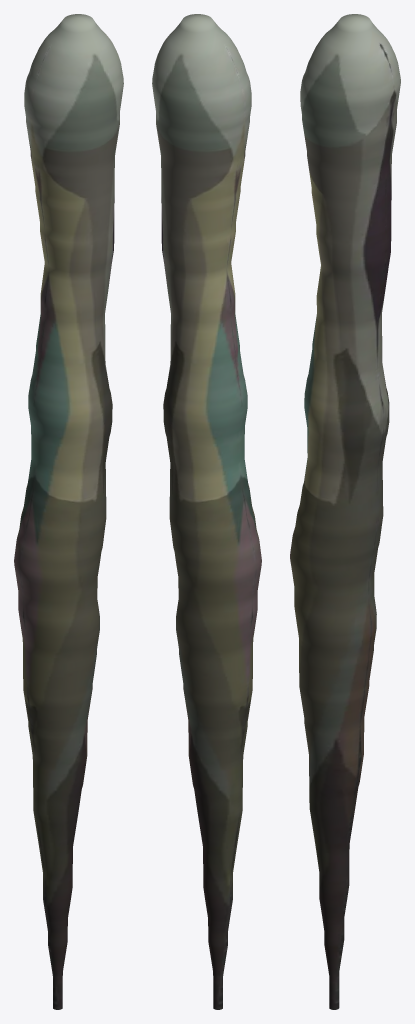
File: slender_rock.glb
3 renders of one model, left to right at view 1: azimuth 30°, elevation 25°; view 2: azimuth 150°, elevation 25°; view 3: azimuth 330°, elevation 25°, orthographic.
Visible parts, largest first — view 1: slender_rock; view 2: slender_rock; view 3: slender_rock.
Boxes of the visible parts, x1=… form: slender_rock: x1=14, y1=14, x2=123, y2=1009; slender_rock: x1=152, y1=14, x2=261, y2=1009; slender_rock: x1=290, y1=14, x2=400, y2=1009.
Size of the model in its own units: 0.9876 by 9.54 by 0.8633.
Materials: 1 (1 with a texture image).
